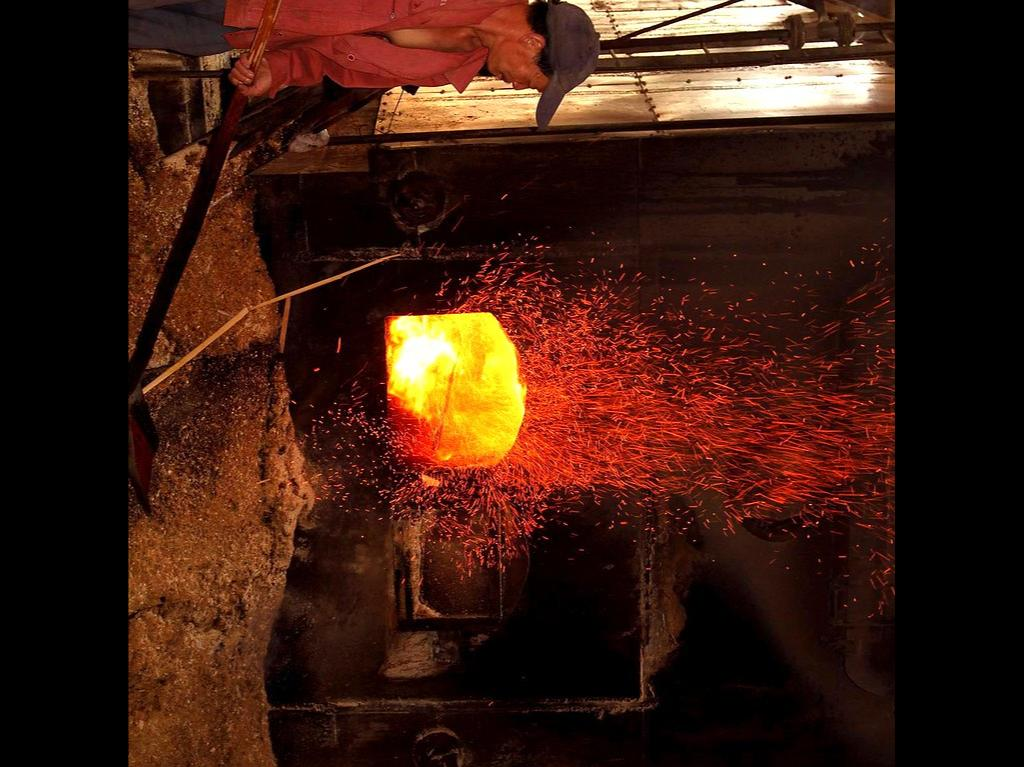controlled_fire: (356, 294, 588, 544)
